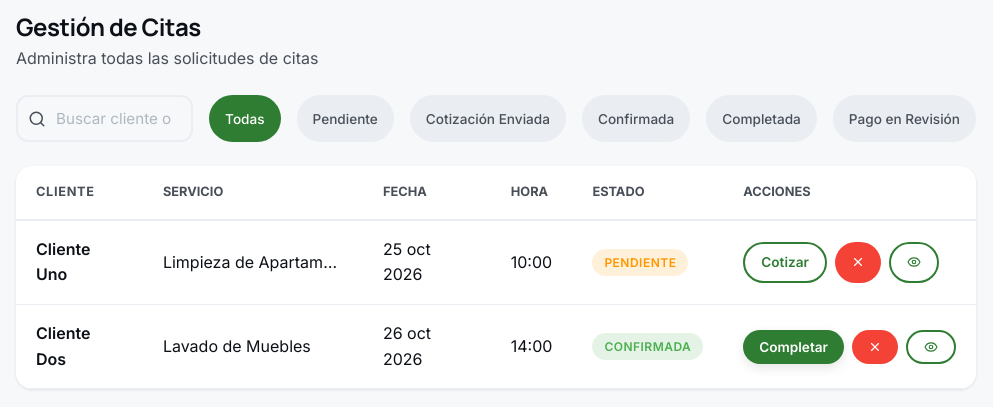
Test: AdminAppointments Component › debe filtrar citas por búsqueda
Check: the text "Cliente Uno" is shown, box top-left (16, 220), bottom-right (143, 305)
In the field with placeholder "Buscar cliente o servicio...": [105, 119] box top-left (16, 95), bottom-right (193, 142), type "Cliente Dos"
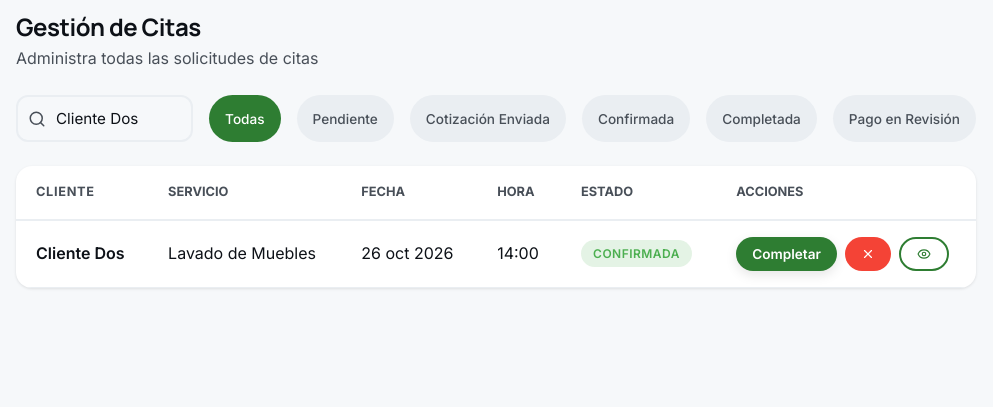
Check: the text "Cliente Dos" is shown, box top-left (16, 220), bottom-right (148, 287)
Check: the text "Cliente Uno" is gone
